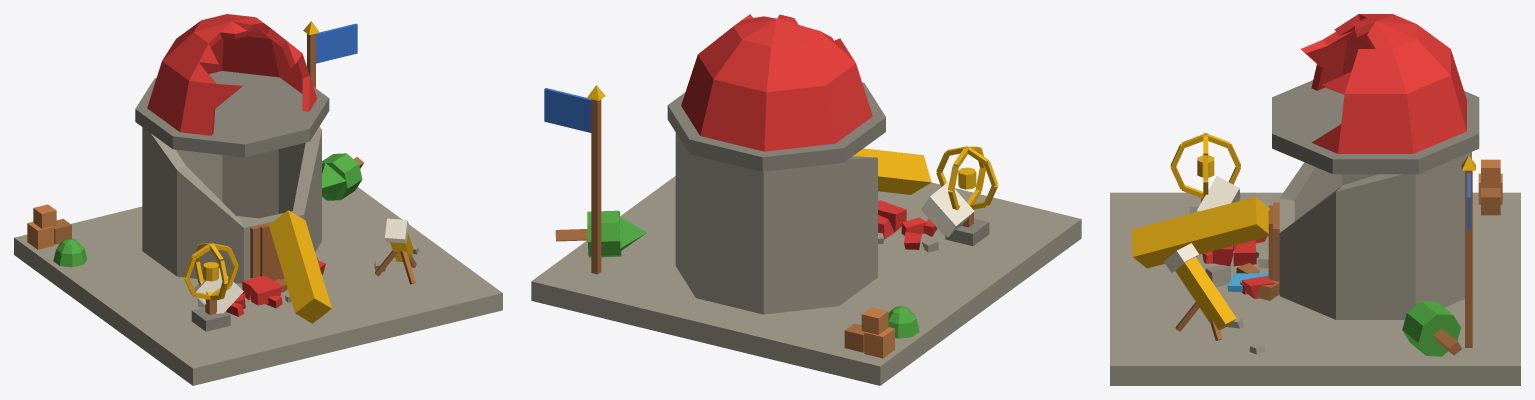
File: observatory_t2_v3_dmg1.glb
3 views of the same model, side by side, from view 1: azimuth 30°, elevation 25°; view 2: azimuth 150°, elevation 25°; view 3: azimuth 270°, elevation 25° (orthographic). The views are drawn at different scales.
Parts seen in each view (by area): view 1: observatory_t2_v3_dmg1; view 2: observatory_t2_v3_dmg1; view 3: observatory_t2_v3_dmg1.
Part boxes in pixels (x1,y1,x2,y2): observatory_t2_v3_dmg1: (14, 14, 502, 385); observatory_t2_v3_dmg1: (531, 14, 1081, 385); observatory_t2_v3_dmg1: (1110, 14, 1520, 385).
Bounding box in the file's own units: 0.775 × 0.56 × 0.75.
Materials: 1 (1 with a texture image).
